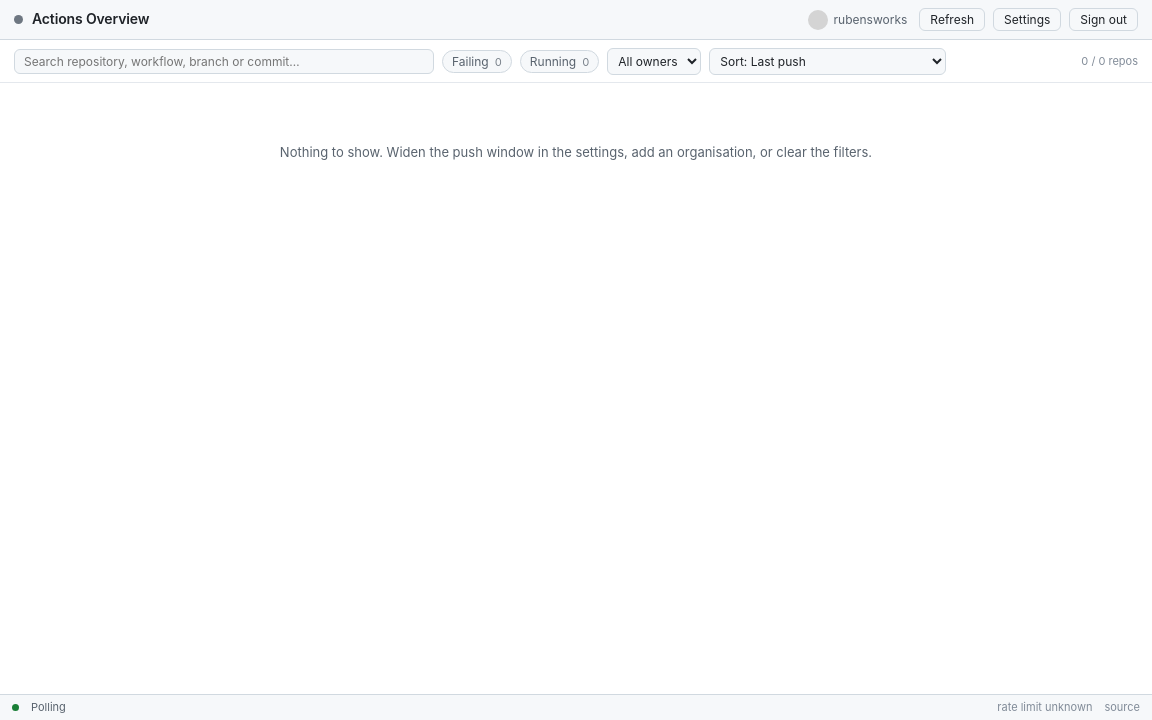
Test: Dashboard › settings panel › passes the token location through
Click the button "Settings": [1027, 20] box [993,8,1061,31]
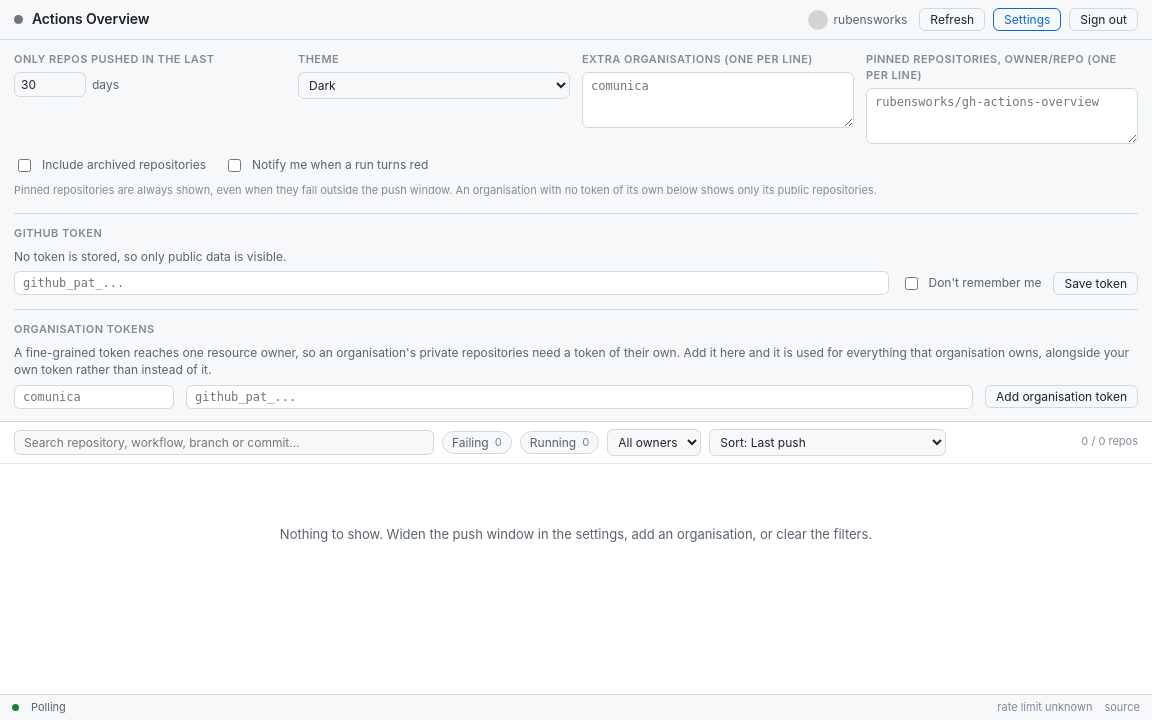
Now the text "No token is stored, so only public data is visible." is shown, box [14,249,286,264]
